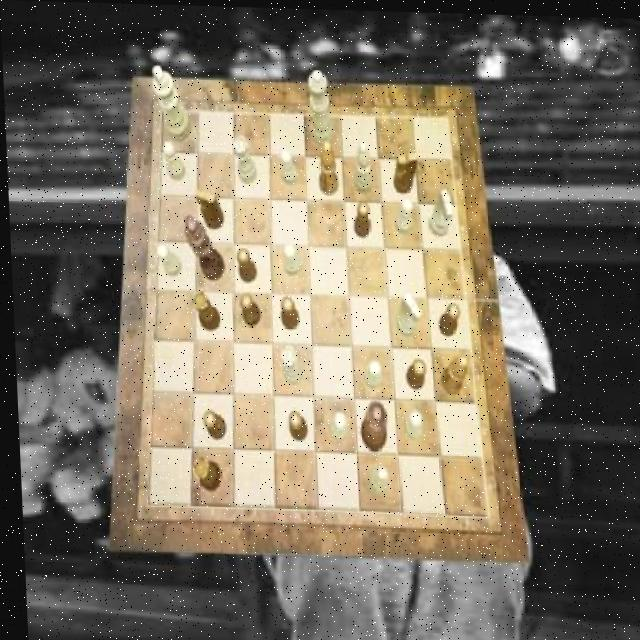bishop: (435, 353, 464, 393), (316, 139, 337, 194)
black-bishop: (182, 215, 222, 281)
black-king: (193, 188, 222, 230), (391, 147, 417, 190)
black-knight: (436, 300, 458, 335), (236, 291, 257, 326), (233, 247, 254, 282), (401, 357, 423, 390), (350, 199, 368, 237), (197, 411, 221, 439), (277, 294, 296, 328), (284, 408, 304, 439)
black-pawn: (355, 398, 385, 450)
black-queen: (189, 290, 217, 330), (188, 455, 217, 490)
black-rook: (350, 139, 371, 193), (362, 463, 386, 496)
white-bishop: (151, 62, 191, 141)
white-king: (426, 187, 453, 235), (393, 290, 420, 335)
white-knight: (161, 140, 185, 179), (153, 243, 179, 276), (391, 195, 412, 231), (278, 148, 297, 183), (280, 243, 299, 276), (401, 408, 420, 439), (359, 359, 379, 387), (326, 411, 344, 438)
white-pawn: (308, 67, 334, 144)
white-queen: (231, 135, 255, 183), (277, 345, 300, 385)
